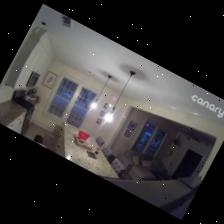person: (34, 135, 46, 147)
